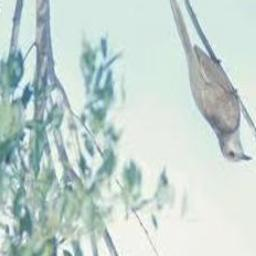Cuckoo: (170, 0, 253, 162)
